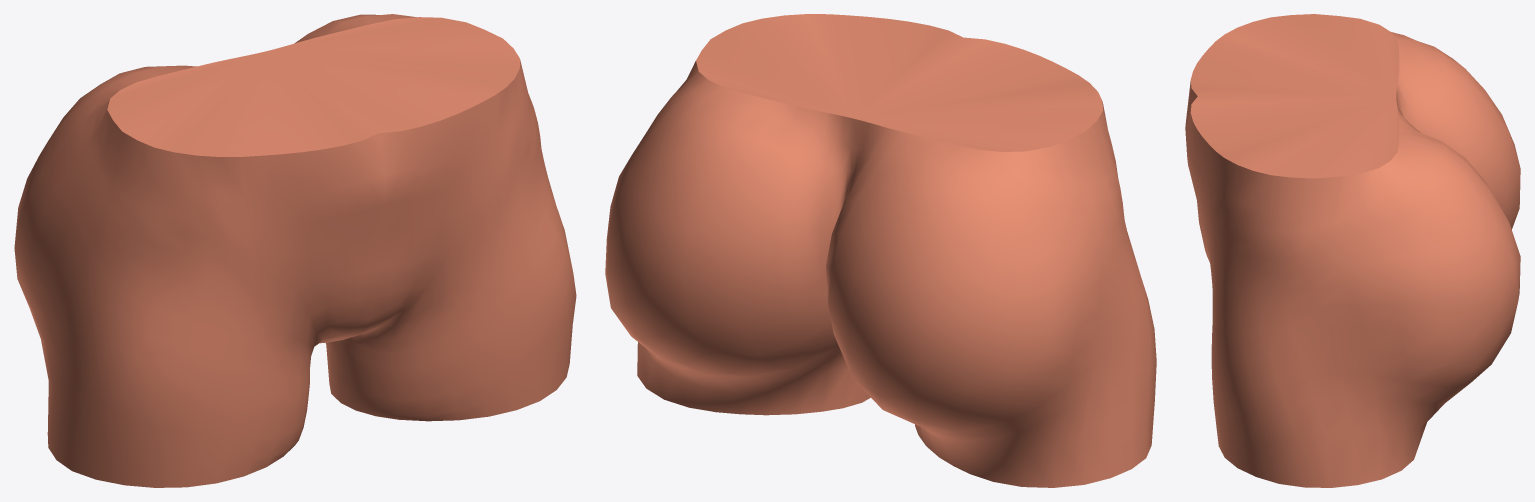
The model's file is ButtBeware2.fbx.
The picture shows the model from 3 angles, left to right: view 1: azimuth 30°, elevation 25°; view 2: azimuth 150°, elevation 25°; view 3: azimuth 270°, elevation 25°; orthographic projection. The views are drawn at different scales.
Visible parts, largest first — view 1: Body.002; view 2: Body.002; view 3: Body.002.
Boxes of the visible parts, left/top/right/bottom form: Body.002: left=14, top=14, right=576, bottom=487; Body.002: left=605, top=14, right=1156, bottom=487; Body.002: left=1185, top=14, right=1520, bottom=487.
Size of the model in its own units: 40.2 by 25.11 by 26.76.
